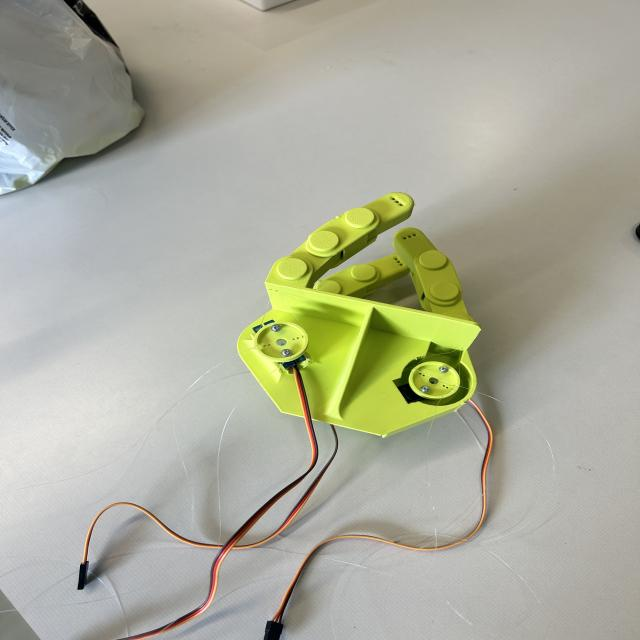prosthetic: (235, 183, 480, 442)
